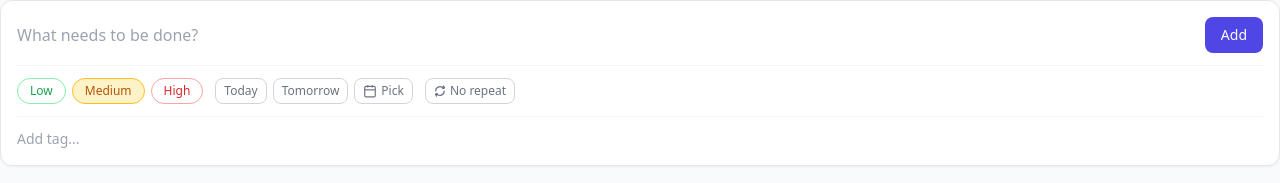
Test: TaskInput – tag management › removes a tag when its × button is clicked
Type "work" into the field labelled "Add tag..." at point(118, 139), box left=17, top=129, right=219, bottom=149
Then press Enter
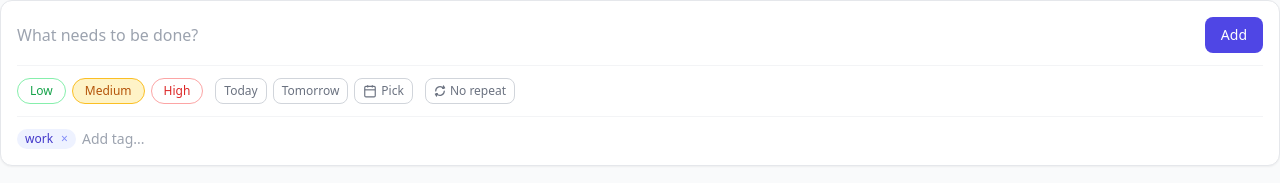
Click the button named "remove tag work" at point(65, 139), box left=61, top=131, right=68, bottom=147
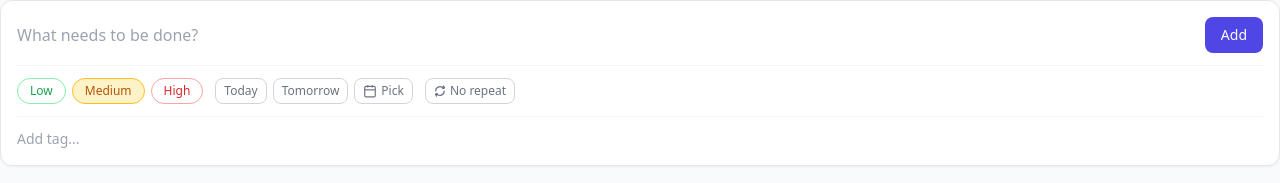
Expected: the text "work" is gone
